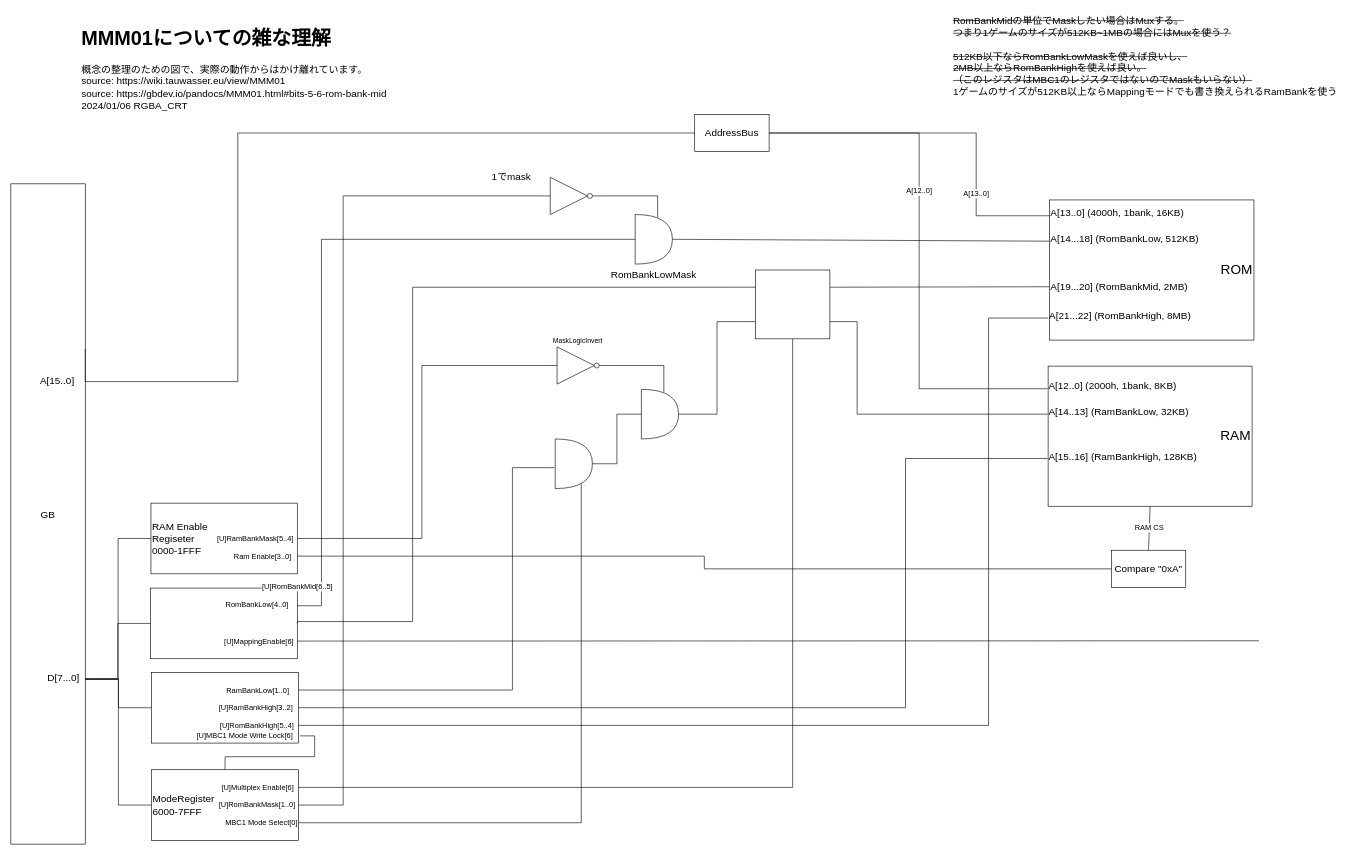
The diagram is 1359 pixels wide and 855 high, and some of its shapes have lost their labels. The shapes that lost their labels are listed below. From the top down, each one's centre as x and y in pixels, then its label:
At point 792,304: "2bit 2x2 Multiprexer".
At point 660,414: "RamBankLowMask".
At point 573,463: "MBC1ModeMask".
At point 223,623: "ROM Bank Register 2000-3FFF".
At point 225,707: "RAM Bank Register 4000-5FFF".
